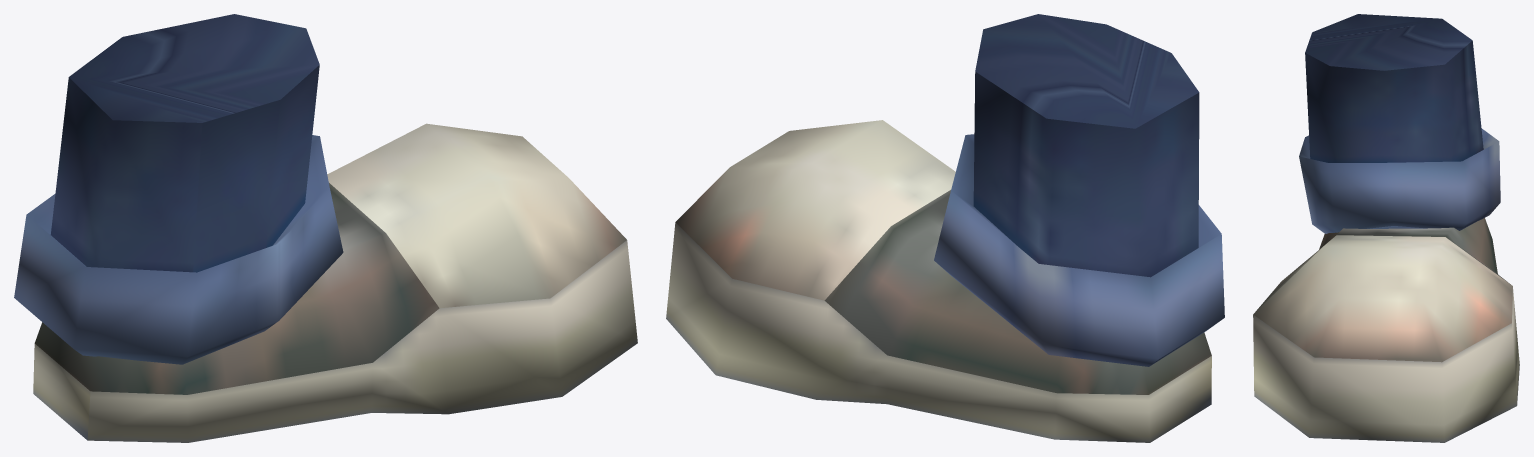
File: pie_izqobj.obj
The picture shows the model from 3 angles, left to right: view 1: azimuth 30°, elevation 25°; view 2: azimuth 150°, elevation 25°; view 3: azimuth 270°, elevation 25°; orthographic projection. The views are drawn at different scales.
Parts seen in each view (by area): view 1: Material_#95.006; view 2: Material_#95.006; view 3: Material_#95.006.
Boxes of the visible parts, bbox=[...] form: Material_#95.006: bbox=[14, 14, 637, 442]; Material_#95.006: bbox=[666, 14, 1224, 442]; Material_#95.006: bbox=[1253, 14, 1519, 442].
Size of the model in its own units: 1.9 by 1.18 by 1.08.
Materials: 1 (1 with a texture image).
